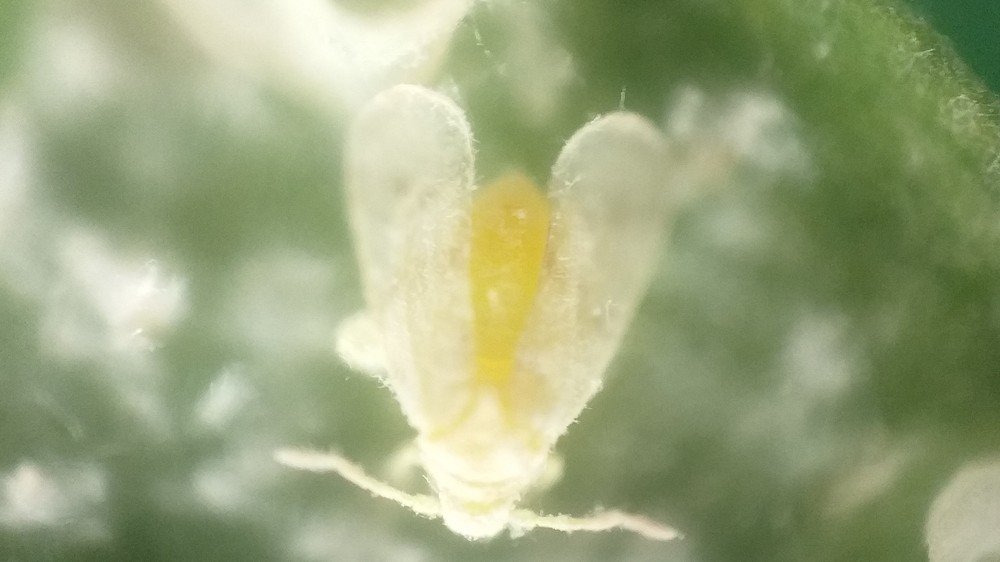Mosca Blanca: (272, 60, 705, 548)
